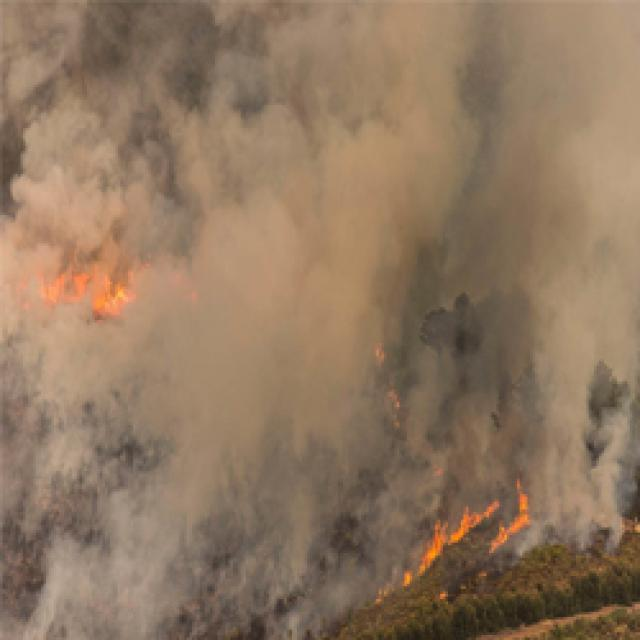Fire: (357, 482, 537, 610), (0, 222, 159, 320)
Smoke: (0, 0, 636, 515), (0, 344, 426, 630)
